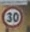limite 30: (1, 5, 24, 28)
